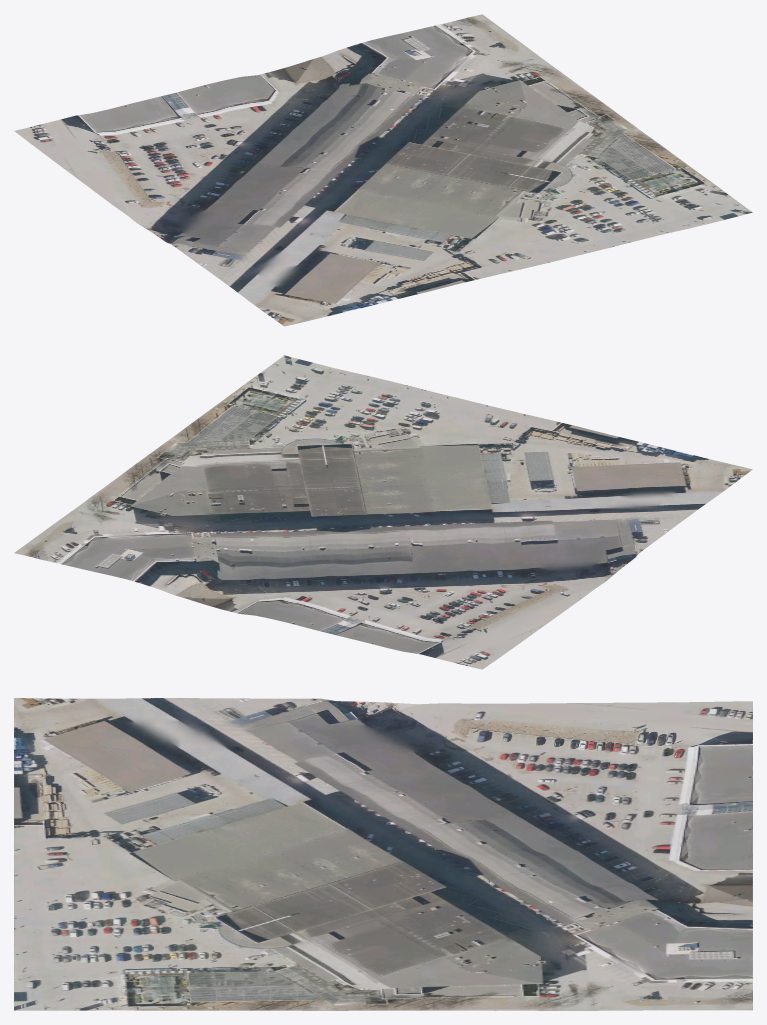
The model's file is CM_Terrain_24488206_6818975.fbx.
3 views of the same model, one above another, from view 1: azimuth 30°, elevation 25°; view 2: azimuth 150°, elevation 25°; view 3: azimuth 270°, elevation 25° (orthographic). The views are drawn at different scales.
Visible parts, largest first — view 1: CM_Terrain_24488206_6818975_LOD0; view 2: CM_Terrain_24488206_6818975_LOD0; view 3: CM_Terrain_24488206_6818975_LOD0.
Part boxes in pixels (<box>): CM_Terrain_24488206_6818975_LOD0: <box>14,14,752,326</box>; CM_Terrain_24488206_6818975_LOD0: <box>14,355,752,669</box>; CM_Terrain_24488206_6818975_LOD0: <box>14,698,752,1010</box>.
Size of what is drawn, in the model's own units: 205 by 4.94 by 205.
